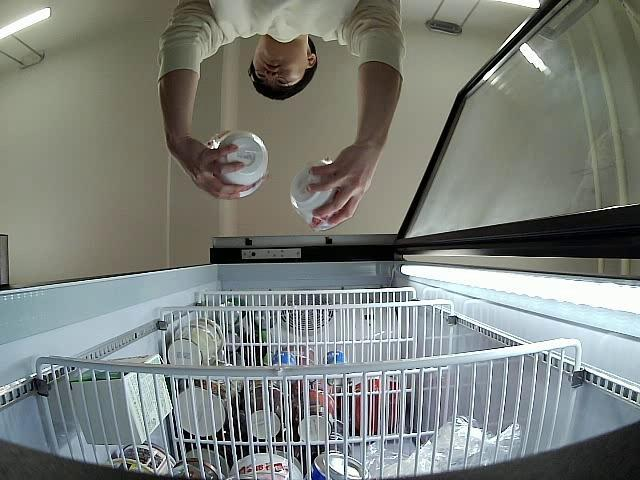09_yukGaeJang: (206, 130, 270, 197), (291, 156, 343, 230)
